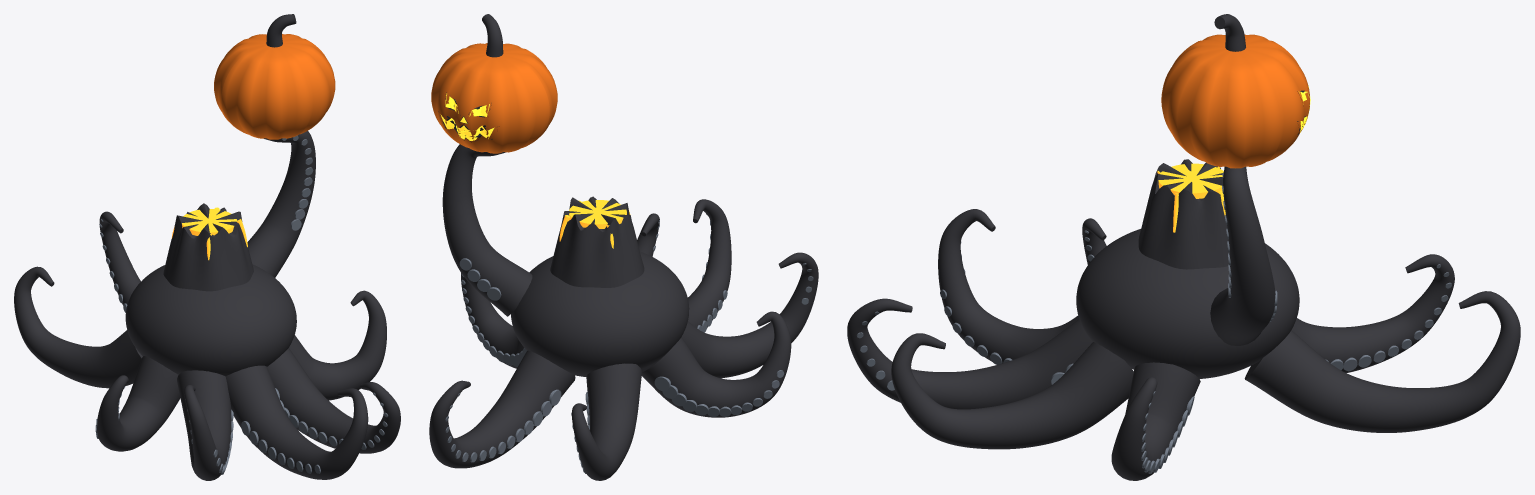
File: FISH_HEADLESSKRAKEN.glb
3 renders of one model, left to right at view 1: azimuth 30°, elevation 25°; view 2: azimuth 150°, elevation 25°; view 3: azimuth 270°, elevation 25°, orthographic. The views are drawn at different scales.
Parts seen in each view (by area): view 1: Tentacle (×7), Body, Pumpkin, NeckStump, Tentacle_Holding, Glow_Stump, Pumpkin_Stem; view 2: Tentacle (×7), Body, Pumpkin, Tentacle_Holding, NeckStump, Glow_Stump, Pumpkin_Stem, Glow_Face; view 3: Tentacle (×7), Body, Pumpkin, Tentacle_Holding, NeckStump, Glow_Stump, Pumpkin_Stem.
Part boxes in pixels (x1=…): Tentacle (×7): x1=14, y1=211, x2=400, y2=480; Body: x1=125, y1=264, x2=296, y2=376; Pumpkin: x1=214, y1=34, x2=335, y2=139; NeckStump: x1=163, y1=203, x2=253, y2=291; Tentacle_Holding: x1=247, y1=131, x2=315, y2=277; Glow_Stump: x1=182, y1=209, x2=236, y2=235; Pumpkin_Stem: x1=266, y1=14, x2=296, y2=47; Tentacle (×7): x1=429, y1=199, x2=818, y2=480; Body: x1=511, y1=251, x2=689, y2=376; Pumpkin: x1=431, y1=43, x2=557, y2=153; Tentacle_Holding: x1=442, y1=144, x2=532, y2=316; NeckStump: x1=550, y1=196, x2=644, y2=287; Glow_Stump: x1=569, y1=200, x2=626, y2=228; Pumpkin_Stem: x1=482, y1=14, x2=503, y2=57; Glow_Face: x1=440, y1=114, x2=494, y2=140; Tentacle (×7): x1=847, y1=209, x2=1520, y2=480; Body: x1=1076, y1=229, x2=1299, y2=378; Pumpkin: x1=1161, y1=34, x2=1309, y2=168; Tentacle_Holding: x1=1210, y1=166, x2=1275, y2=345; NeckStump: x1=1138, y1=159, x2=1228, y2=269; Glow_Stump: x1=1158, y1=163, x2=1223, y2=198; Pumpkin_Stem: x1=1214, y1=14, x2=1245, y2=51.
Bounding box in the file's own units: 8.17 × 9.45 × 12.66.
